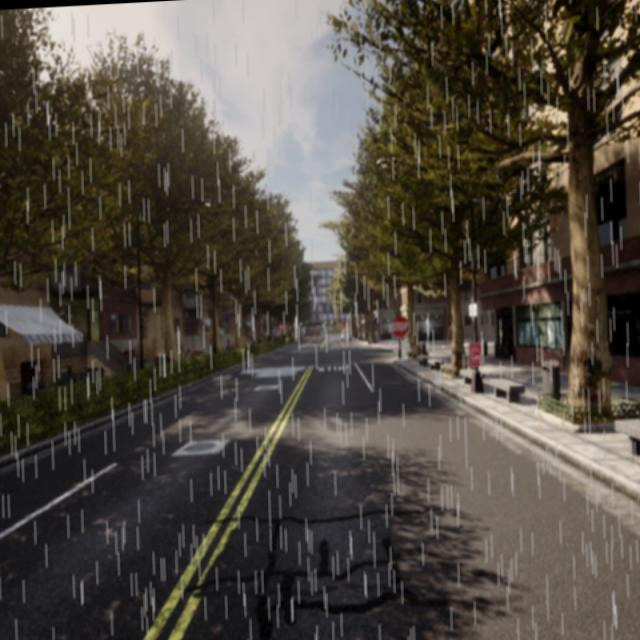stop sign: (389, 310, 412, 360), (390, 313, 410, 339)
